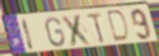9: (130, 8, 152, 42)
D: (106, 9, 130, 43)
G: (45, 16, 67, 48)
I: (21, 18, 36, 52)
T: (85, 11, 107, 45)
X: (60, 13, 93, 47)
